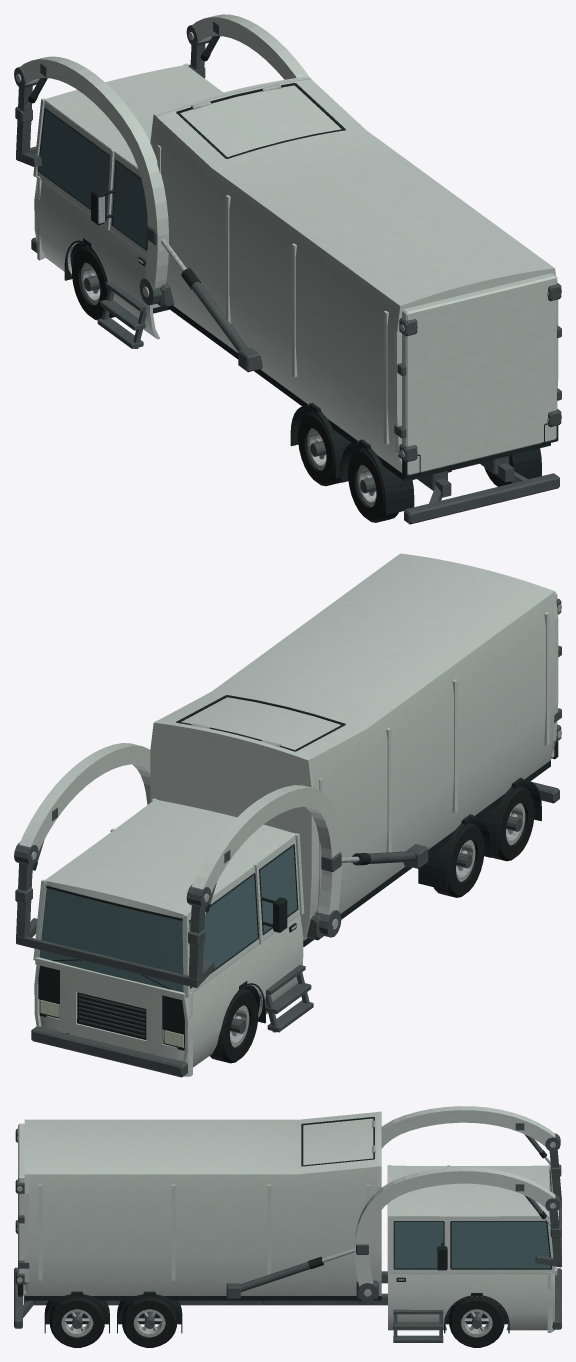
3 renders of one model, top to bottom at view 1: azimuth 30°, elevation 25°; view 2: azimuth 150°, elevation 25°; view 3: azimuth 270°, elevation 25°, orthographic. The views are drawn at different scales.
Parts seen in each view (by area): view 1: B029-10_equipment_paint, B029-10_roof_paint, B029-10_body_shell_paint, B029-10_equipment_steel, B029-10_glazing_glass, B029-10_wheelwell_dark, B029-10_door_leaf_paint_work_cab_door-1, B029-10_bumper_steel, B029-10_door_leaf_glass_work_cab_door-1, B029-10_floor_dark, B029-10_wheel_rubber_P-1.0300_-3.9600_0.5200, B029-10_wheel_rubber_P-1.0300_-2.6000_0.5200 (+6 smaller); view 2: B029-10_equipment_paint, B029-10_body_shell_paint, B029-10_roof_paint, B029-10_glazing_glass, B029-10_equipment_steel, B029-10_wheelwell_dark, B029-10_bumper_steel, B029-10_door_leaf_paint_work_cab_door-1, B029-10_door_leaf_glass_work_cab_door-1, B029-10_lamps_dark, B029-10_wheel_rubber_P-1.0300_-2.6000_0.5200, B029-10_wheel_rubber_P-1.0300_3.5500_0.5200 (+8 smaller); view 3: B029-10_equipment_paint, B029-10_body_shell_paint, B029-10_roof_paint, B029-10_glazing_glass, B029-10_equipment_steel, B029-10_door_leaf_paint_work_cab_door1, B029-10_door_leaf_glass_work_cab_door1, B029-10_wheel_rubber_P1.0300_3.5500_0.5200, B029-10_wheel_rubber_P1.0300_-2.6000_0.5200, B029-10_wheel_rubber_P1.0300_-3.9600_0.5200, B029-10_wheelwell_dark, B029-10_chassis_steel (+11 smaller).
Part boxes in pixels (x1=…): B029-10_equipment_paint: x1=19, y1=14, x2=558, y2=475; B029-10_roof_paint: x1=45, y1=65, x2=222, y2=169; B029-10_body_shell_paint: x1=33, y1=63, x2=188, y2=339; B029-10_equipment_steel: x1=14, y1=21, x2=561, y2=462; B029-10_glazing_glass: x1=38, y1=110, x2=110, y2=219; B029-10_wheelwell_dark: x1=64, y1=240, x2=541, y2=515; B029-10_door_leaf_paint_work_cab_door-1: x1=107, y1=152, x2=154, y2=337; B029-10_bumper_steel: x1=31, y1=237, x2=559, y2=524; B029-10_door_leaf_glass_work_cab_door-1: x1=113, y1=162, x2=147, y2=248; B029-10_floor_dark: x1=72, y1=248, x2=550, y2=481; B029-10_wheel_rubber_P-1.0300_-3.9600_0.5200: x1=348, y1=447, x2=398, y2=522; B029-10_wheel_rubber_P-1.0300_-2.6000_0.5200: x1=298, y1=411, x2=340, y2=486; B029-10_equipment_paint: x1=19, y1=553, x2=558, y2=940; B029-10_body_shell_paint: x1=33, y1=798, x2=304, y2=1076; B029-10_roof_paint: x1=45, y1=799, x2=296, y2=914; B029-10_glazing_glass: x1=39, y1=875, x2=257, y2=992; B029-10_equipment_steel: x1=14, y1=598, x2=561, y2=987; B029-10_wheelwell_dark: x1=212, y1=780, x2=541, y2=1055; B029-10_bumper_steel: x1=31, y1=782, x2=559, y2=1077; B029-10_door_leaf_paint_work_cab_door-1: x1=258, y1=837, x2=301, y2=1017; B029-10_door_leaf_glass_work_cab_door-1: x1=260, y1=846, x2=297, y2=932; B029-10_lamps_dark: x1=39, y1=741, x2=558, y2=1047; B029-10_wheel_rubber_P-1.0300_-2.6000_0.5200: x1=433, y1=822, x2=484, y2=897; B029-10_wheel_rubber_P-1.0300_3.5500_0.5200: x1=210, y1=988, x2=258, y2=1063; B029-10_equipment_paint: x1=18, y1=1106, x2=555, y2=1295; B029-10_body_shell_paint: x1=387, y1=1165, x2=557, y2=1332; B029-10_roof_paint: x1=389, y1=1165, x2=547, y2=1216; B029-10_glazing_glass: x1=451, y1=1191, x2=551, y2=1268; B029-10_equipment_steel: x1=15, y1=1123, x2=561, y2=1301; B029-10_door_leaf_paint_work_cab_door1: x1=390, y1=1216, x2=447, y2=1330; B029-10_door_leaf_glass_work_cab_door1: x1=394, y1=1222, x2=443, y2=1268; B029-10_wheel_rubber_P1.0300_3.5500_0.5200: x1=449, y1=1296, x2=504, y2=1347; B029-10_wheel_rubber_P1.0300_-2.6000_0.5200: x1=122, y1=1296, x2=176, y2=1347; B029-10_wheel_rubber_P1.0300_-3.9600_0.5200: x1=50, y1=1296, x2=104, y2=1347; B029-10_wheelwell_dark: x1=44, y1=1294, x2=509, y2=1333; B029-10_chassis_steel: x1=23, y1=1271, x2=387, y2=1305.
Bounding box in the file's own units: 2.99 × 3.87 × 10.3.
9 materials, 9 textured.
